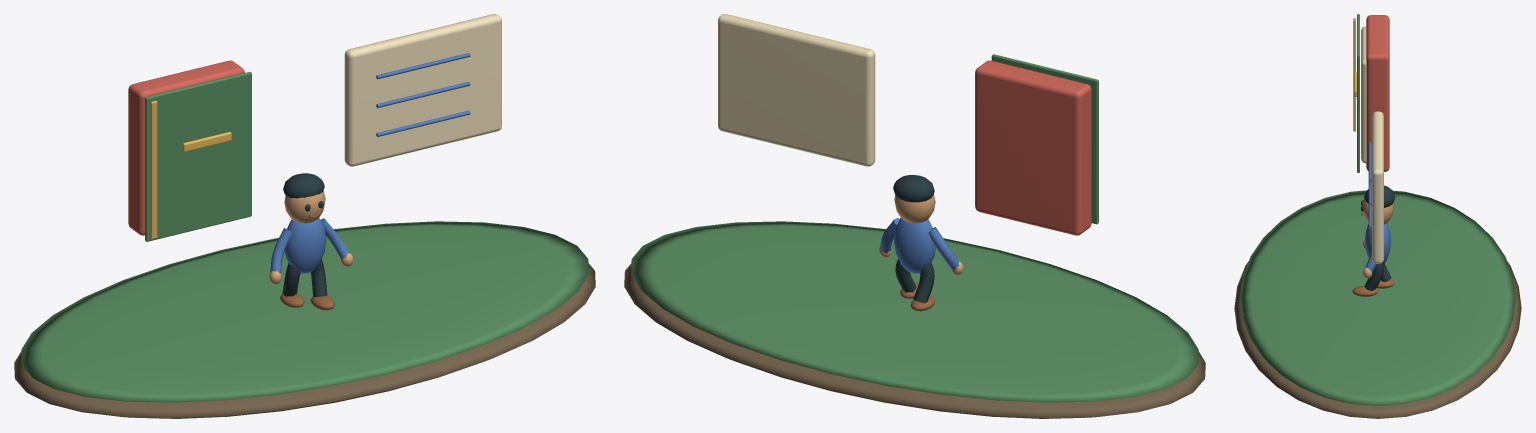
File: complete-first-old-tale-task.glb
3 views of the same model, side by side, from view 1: azimuth 30°, elevation 25°; view 2: azimuth 150°, elevation 25°; view 3: azimuth 270°, elevation 25° (orthographic). The views are drawn at different scales.
Visible parts, largest first — view 1: complete-first-old-tale-task_surface_01, complete-first-old-tale-task_surface_03, complete-first-old-tale-task_surface_00, complete-first-old-tale-task_surface_02, complete-first-old-tale-task_surface_05, complete-first-old-tale-task_surface_07, complete-first-old-tale-task_surface_04, complete-first-old-tale-task_surface_06, complete-first-old-tale-task_surface_08; view 2: complete-first-old-tale-task_surface_01, complete-first-old-tale-task_surface_03, complete-first-old-tale-task_surface_02, complete-first-old-tale-task_surface_00, complete-first-old-tale-task_surface_05, complete-first-old-tale-task_surface_07, complete-first-old-tale-task_surface_06; view 3: complete-first-old-tale-task_surface_01, complete-first-old-tale-task_surface_00, complete-first-old-tale-task_surface_02, complete-first-old-tale-task_surface_03, complete-first-old-tale-task_surface_05, complete-first-old-tale-task_surface_07, complete-first-old-tale-task_surface_04, complete-first-old-tale-task_surface_06, complete-first-old-tale-task_surface_08.
Part boxes in pixels (x1,y1,x2,y2): complete-first-old-tale-task_surface_01: [21, 72, 588, 402]; complete-first-old-tale-task_surface_03: [344, 14, 501, 166]; complete-first-old-tale-task_surface_00: [14, 263, 595, 418]; complete-first-old-tale-task_surface_02: [128, 60, 244, 235]; complete-first-old-tale-task_surface_05: [270, 53, 470, 273]; complete-first-old-tale-task_surface_07: [282, 173, 327, 297]; complete-first-old-tale-task_surface_04: [150, 100, 231, 239]; complete-first-old-tale-task_surface_06: [269, 190, 353, 284]; complete-first-old-tale-task_surface_08: [280, 213, 335, 310]; complete-first-old-tale-task_surface_01: [631, 54, 1198, 402]; complete-first-old-tale-task_surface_03: [718, 14, 875, 166]; complete-first-old-tale-task_surface_02: [975, 60, 1091, 235]; complete-first-old-tale-task_surface_00: [624, 263, 1205, 418]; complete-first-old-tale-task_surface_05: [880, 218, 959, 273]; complete-first-old-tale-task_surface_07: [893, 175, 934, 303]; complete-first-old-tale-task_surface_06: [879, 194, 963, 275]; complete-first-old-tale-task_surface_01: [1240, 14, 1515, 405]; complete-first-old-tale-task_surface_00: [1234, 261, 1521, 418]; complete-first-old-tale-task_surface_02: [1366, 15, 1389, 171]; complete-first-old-tale-task_surface_03: [1361, 26, 1383, 263]; complete-first-old-tale-task_surface_05: [1365, 142, 1390, 272]; complete-first-old-tale-task_surface_07: [1361, 185, 1395, 290]; complete-first-old-tale-task_surface_04: [1353, 18, 1356, 131]; complete-first-old-tale-task_surface_06: [1362, 198, 1393, 278]; complete-first-old-tale-task_surface_08: [1352, 211, 1394, 296].
Size of the model in its own units: 4.56 by 2.31 by 2.5.
